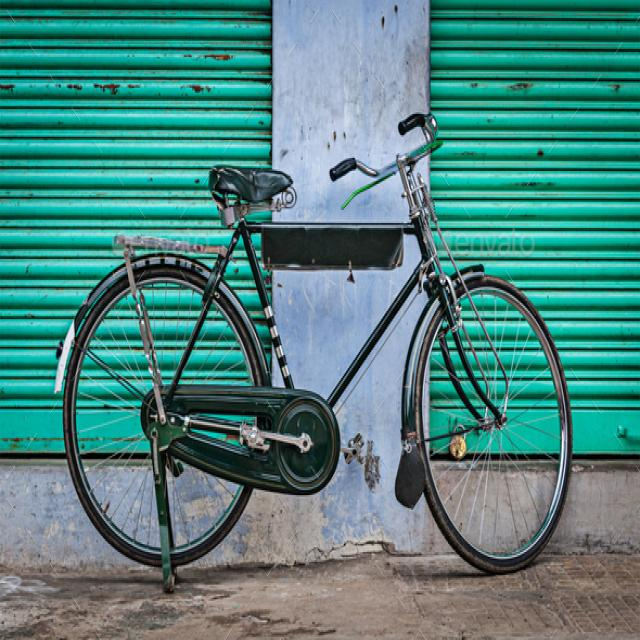bicycle: (56, 114, 571, 588)
